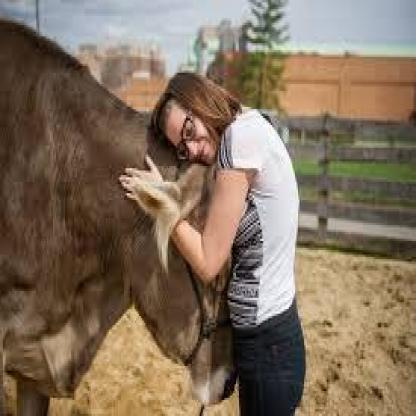cow: (0, 16, 239, 416)
